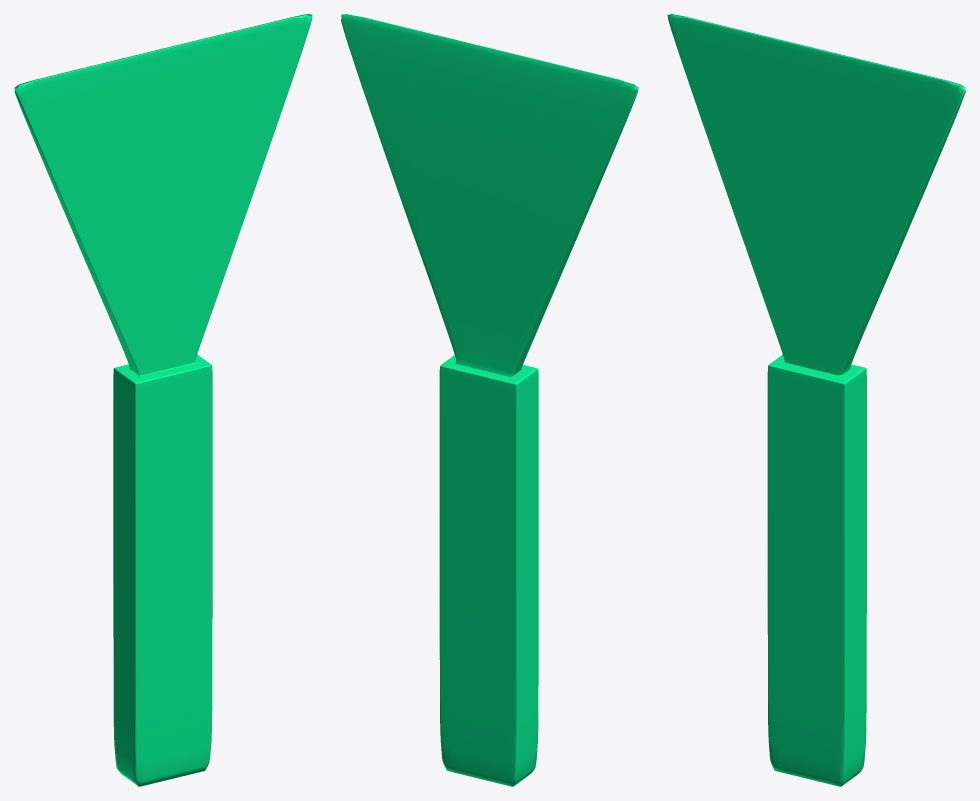
File: SpatulaEmerald.fbx
The picture shows the model from 3 angles, left to right: view 1: azimuth 30°, elevation 25°; view 2: azimuth 150°, elevation 25°; view 3: azimuth 330°, elevation 25°; orthographic projection.
Parts seen in each view (by area): view 1: pasted__pasted__HighPoly2; view 2: pasted__pasted__HighPoly2; view 3: pasted__pasted__HighPoly2.
Boxes of the visible parts, x1,y1,x2,y2 form: pasted__pasted__HighPoly2: (14,14,312,786); pasted__pasted__HighPoly2: (341,14,638,786); pasted__pasted__HighPoly2: (667,14,965,786).
Bounding box in the file's own units: 7.69 × 17.84 × 1.
